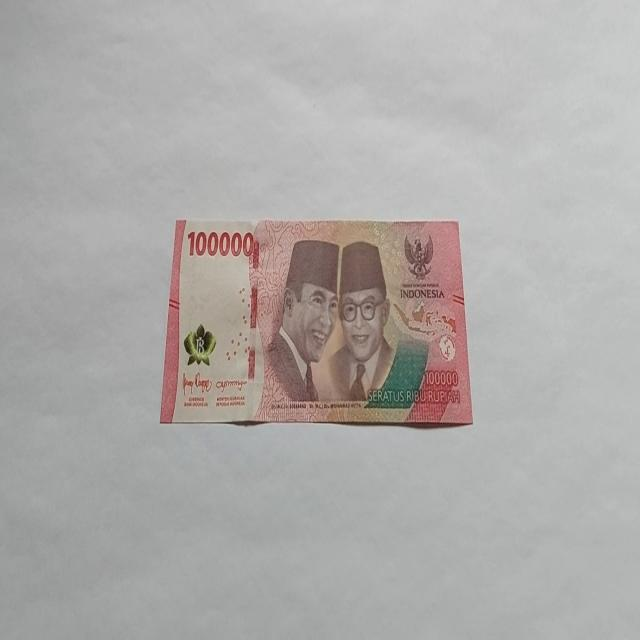seratus ribu rupiah: (158, 216, 474, 428)
